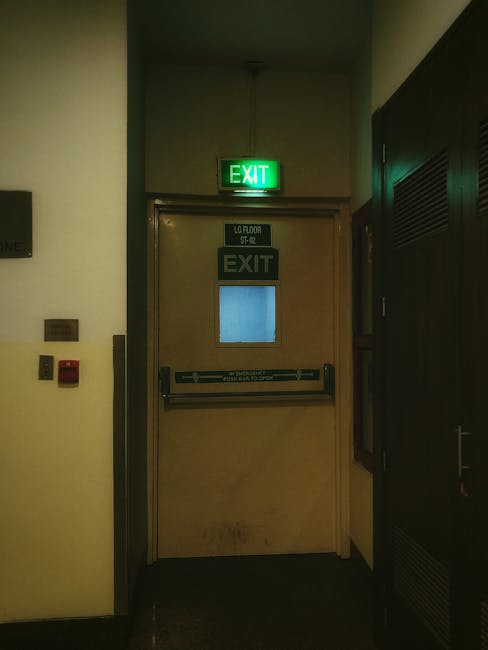emergency_exit: (217, 156, 282, 194), (217, 246, 279, 282), (223, 222, 272, 246)
